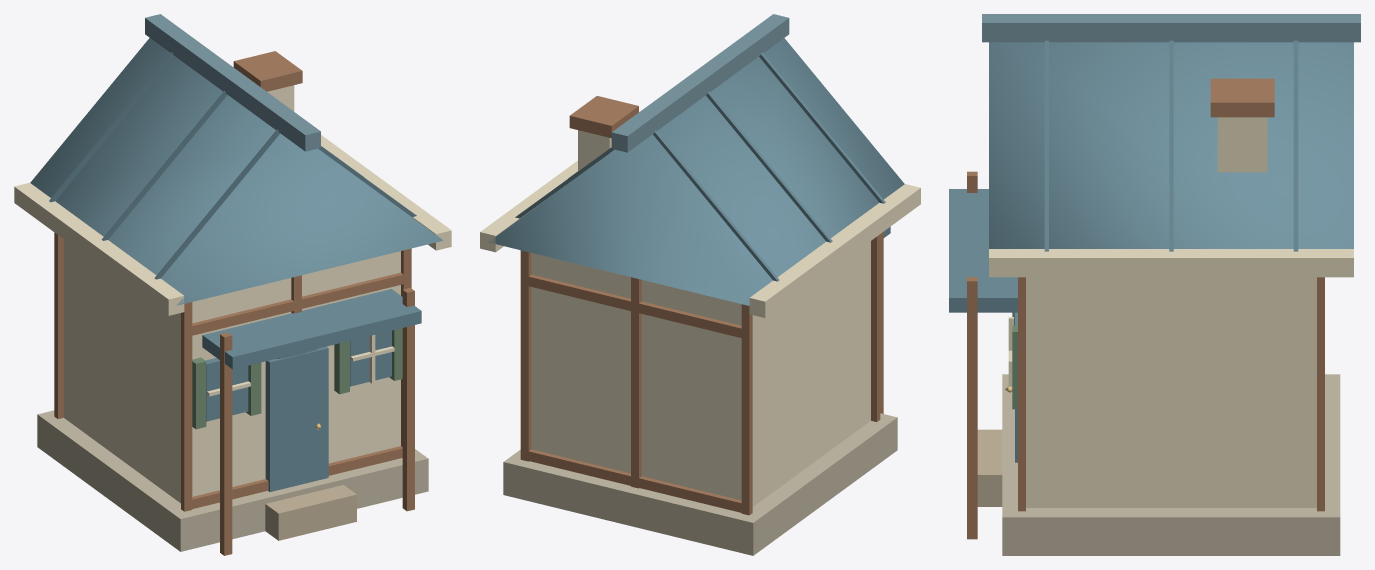
File: house_coast.glb
The picture shows the model from 3 angles, left to right: view 1: azimuth 30°, elevation 25°; view 2: azimuth 150°, elevation 25°; view 3: azimuth 270°, elevation 25°; orthographic projection. The views are drawn at different scales.
Parts seen in each view (by area): view 1: _MeshInstance3D_42, _MeshInstance3D_41, _MeshInstance3D_40, _MeshInstance3D_62, _MeshInstance3D_78, _MeshInstance3D_43, _MeshInstance3D_44, _MeshInstance3D_77, _MeshInstance3D_79, _MeshInstance3D_61, _MeshInstance3D_80, _MeshInstance3D_57 (+14 smaller); view 2: _MeshInstance3D_41, _MeshInstance3D_42, _MeshInstance3D_40, _MeshInstance3D_43, _MeshInstance3D_44, _MeshInstance3D_56, _MeshInstance3D_55, _MeshInstance3D_54, _MeshInstance3D_52, _MeshInstance3D_53, _MeshInstance3D_76, _MeshInstance3D_57 (+6 smaller); view 3: _MeshInstance3D_42, _MeshInstance3D_41, _MeshInstance3D_40, _MeshInstance3D_43, _MeshInstance3D_48, _MeshInstance3D_78, _MeshInstance3D_80, _MeshInstance3D_75, _MeshInstance3D_76, _MeshInstance3D_77, _MeshInstance3D_54, _MeshInstance3D_59 (+4 smaller).
Boxes of the visible parts, <box> form: _MeshInstance3D_42: <box>30,38,443,305</box>; _MeshInstance3D_41: <box>63,239,400,503</box>; _MeshInstance3D_40: <box>37,410,428,551</box>; _MeshInstance3D_62: <box>265,346,328,491</box>; _MeshInstance3D_78: <box>202,289,421,369</box>; _MeshInstance3D_43: <box>145,14,320,151</box>; _MeshInstance3D_44: <box>14,182,184,315</box>; _MeshInstance3D_77: <box>265,485,356,540</box>; _MeshInstance3D_79: <box>220,332,232,555</box>; _MeshInstance3D_61: <box>185,272,403,337</box>; _MeshInstance3D_80: <box>402,287,414,511</box>; _MeshInstance3D_57: <box>181,302,192,511</box>; _MeshInstance3D_41: <box>531,241,870,506</box>; _MeshInstance3D_42: <box>489,38,904,305</box>; _MeshInstance3D_40: <box>503,413,897,555</box>; _MeshInstance3D_43: <box>611,14,789,152</box>; _MeshInstance3D_44: <box>749,184,920,317</box>; _MeshInstance3D_56: <box>522,274,747,339</box>; _MeshInstance3D_55: <box>522,449,747,514</box>; _MeshInstance3D_54: <box>520,250,531,461</box>; _MeshInstance3D_52: <box>741,304,752,515</box>; _MeshInstance3D_53: <box>631,277,641,488</box>; _MeshInstance3D_76: <box>569,96,638,138</box>; _MeshInstance3D_57: <box>871,234,880,421</box>; _MeshInstance3D_42: <box>989,42,1353,248</box>; _MeshInstance3D_41: <box>1026,277,1316,507</box>; _MeshInstance3D_40: <box>1002,374,1340,555</box>; _MeshInstance3D_43: <box>982,14,1360,42</box>; _MeshInstance3D_48: <box>989,249,1353,277</box>; _MeshInstance3D_78: <box>949,189,1017,312</box>; _MeshInstance3D_80: <box>967,277,977,539</box>; _MeshInstance3D_75: <box>1217,117,1267,172</box>; _MeshInstance3D_76: <box>1210,78,1274,117</box>; _MeshInstance3D_77: <box>977,429,1002,506</box>; _MeshInstance3D_54: <box>1317,277,1324,511</box>; _MeshInstance3D_59: <box>1018,277,1025,511</box>.
Bounding box in the file's own units: 2.17 × 2.89 × 2.32.
